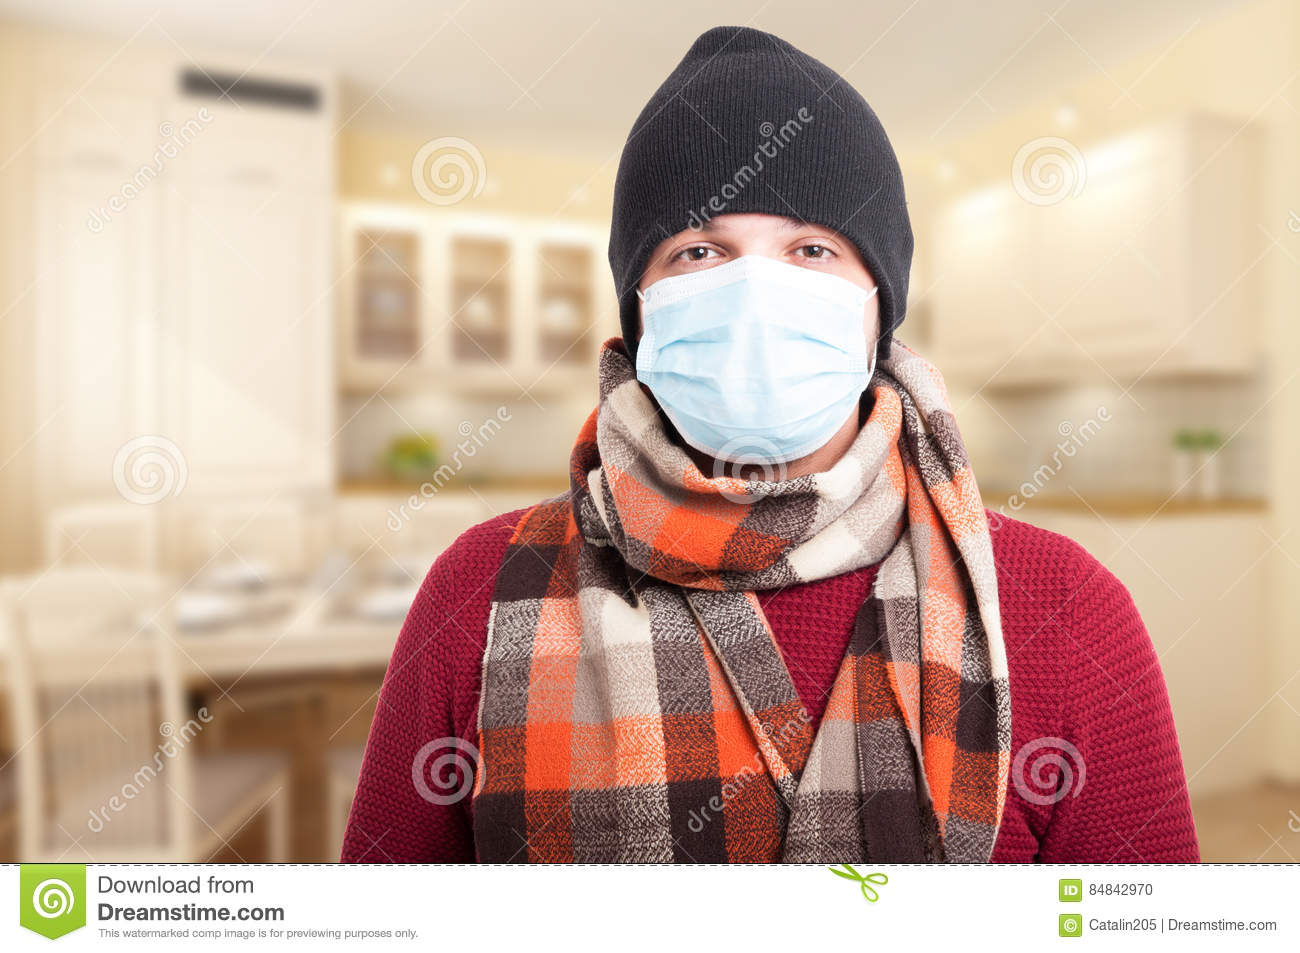mask: (645, 270, 861, 466)
